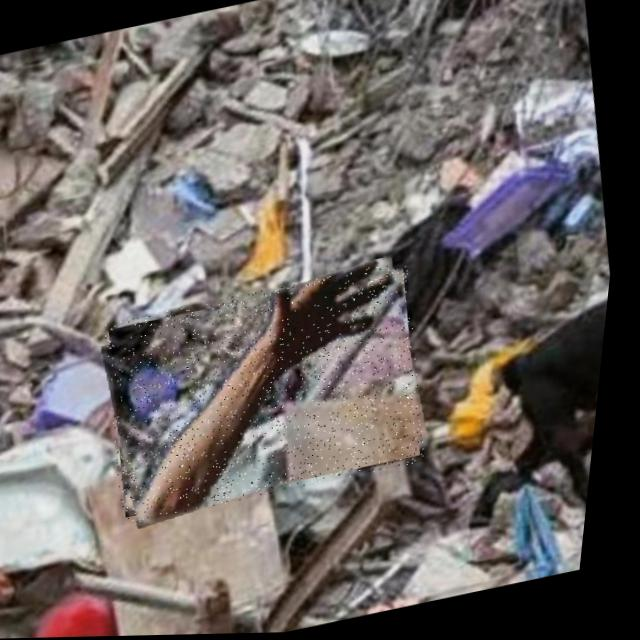Person in Rubble: (95, 261, 452, 527)
